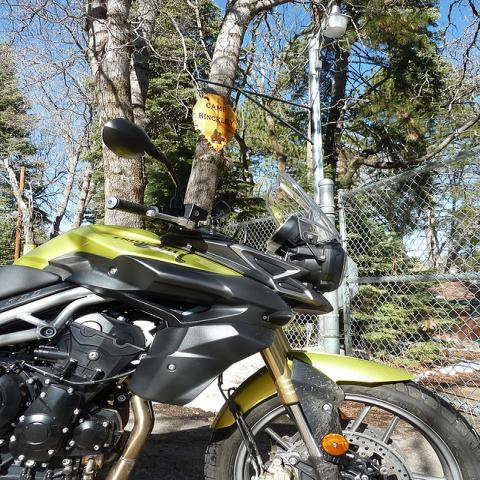motorcycle: (6, 120, 470, 474)
